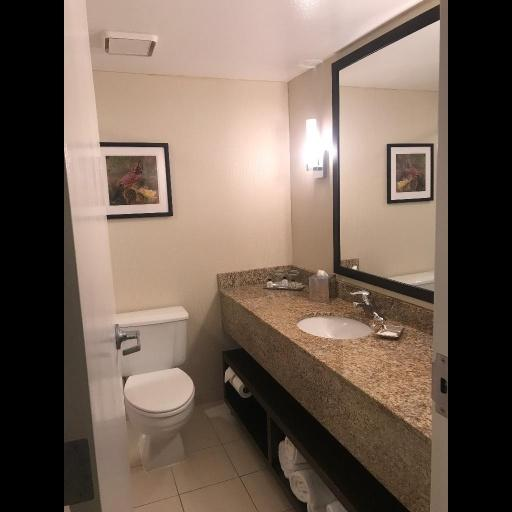clean mirror: (340, 19, 443, 294)
clean_floor: (125, 398, 298, 511)
clean_sink: (209, 263, 431, 511)
clean_toilet: (117, 295, 201, 469)
folded_towel: (278, 432, 347, 510)
